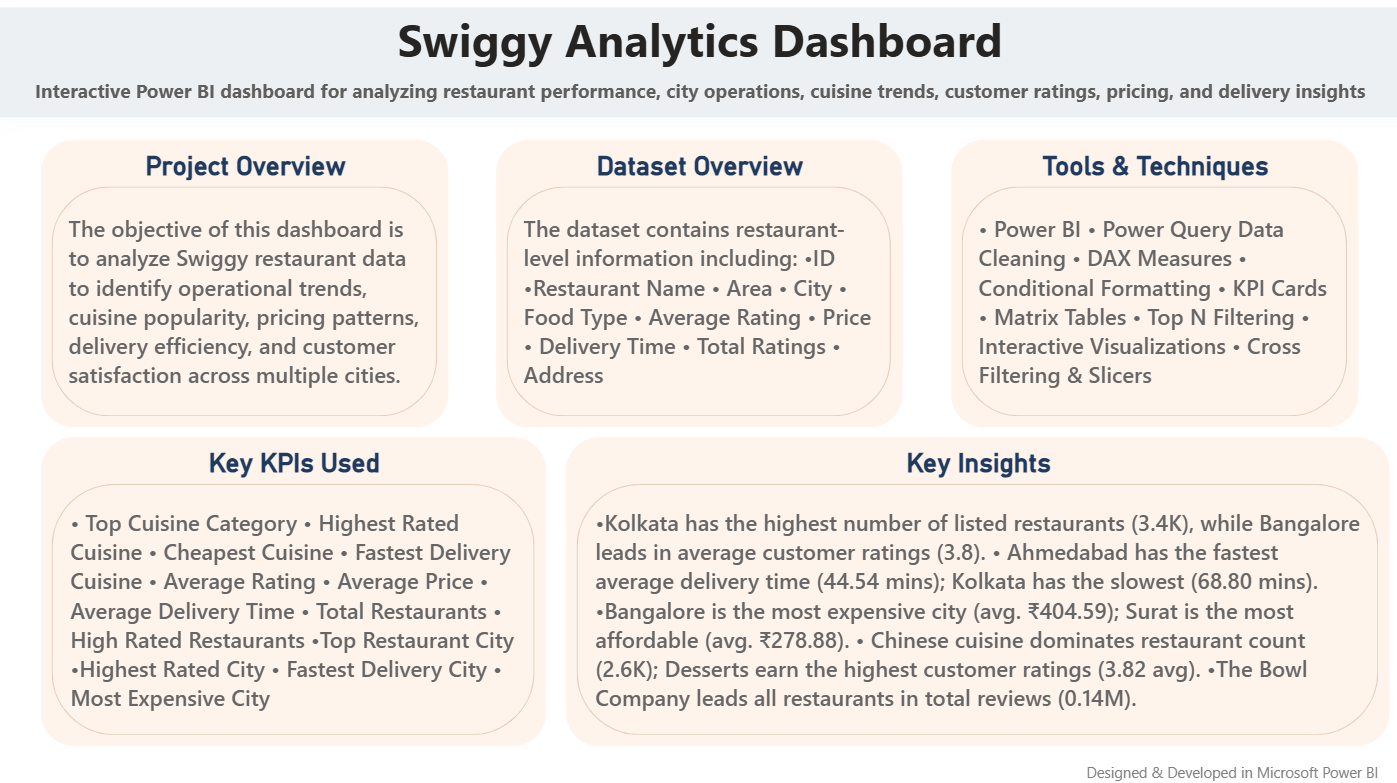

The page's visual inventory and layout, read from the dashboard file:
{"tool":"powerbi","page":{"name":"About This Dashboard","canvas":[1280,720],"ordinal":4},"visuals":[{"type":"textbox","title":"Swiggy  Analytics Dashboard","box":[0,9.8,1280.3,100.3],"z":0},{"type":"shape","title":"Project Overview","box":[40.9,130.7,370.5,261.4],"z":1000},{"type":"shape","title":"Dataset Overview","box":[454.5,130.7,369.3,261.4],"z":2000},{"type":"shape","title":"Key KPIs Used","box":[40.9,401.1,459.1,280.7],"z":3000},{"type":"shape","title":"Tools & Techniques","box":[868.2,130.7,370.5,261.4],"z":4000},{"type":"shape","title":"Key Insights","box":[518.2,401.1,748.9,280.7],"z":5000},{"type":"textbox","box":[986.2,692.1,294.2,28.2],"z":6000}]}

Visuals, with their boxes in screenshot pixels (x1, y1, x2, y2), scaled from the page's 1280x720 canvas onto the 1397x783 screenshot:
"Swiggy  Analytics Dashboard" textbox: rect(0, 11, 1396, 120)
"Project Overview" shape: rect(45, 142, 449, 426)
"Dataset Overview" shape: rect(496, 142, 899, 426)
"Key KPIs Used" shape: rect(45, 436, 546, 741)
"Tools & Techniques" shape: rect(948, 142, 1352, 426)
"Key Insights" shape: rect(566, 436, 1383, 741)
textbox: rect(1076, 753, 1396, 782)
